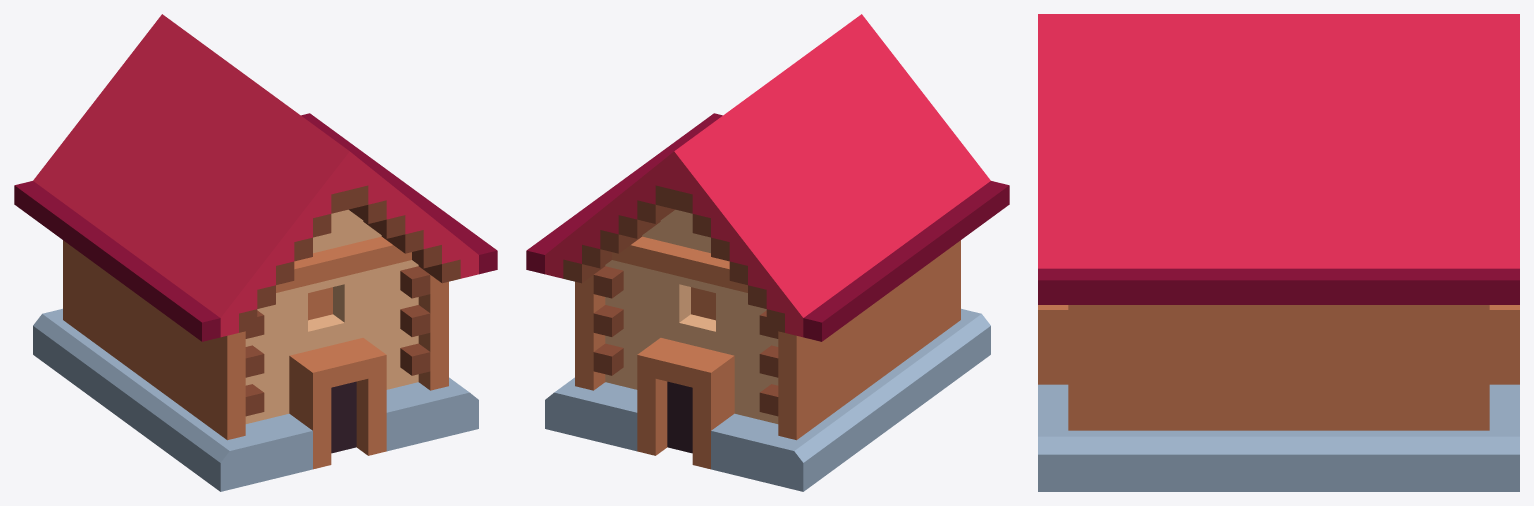
File: house.fbx
3 views of the same model, side by side, from view 1: azimuth 30°, elevation 25°; view 2: azimuth 150°, elevation 25°; view 3: azimuth 270°, elevation 25° (orthographic). The views are drawn at different scales.
Visible parts, largest first — view 1: generated; view 2: generated; view 3: generated.
Part boxes in pixels (box(x1,y1,x2,y2)): generated: box(14, 14, 497, 491); generated: box(526, 14, 1009, 491); generated: box(1038, 14, 1519, 491).
Bounding box in the file's own units: 160 × 160 × 176.
